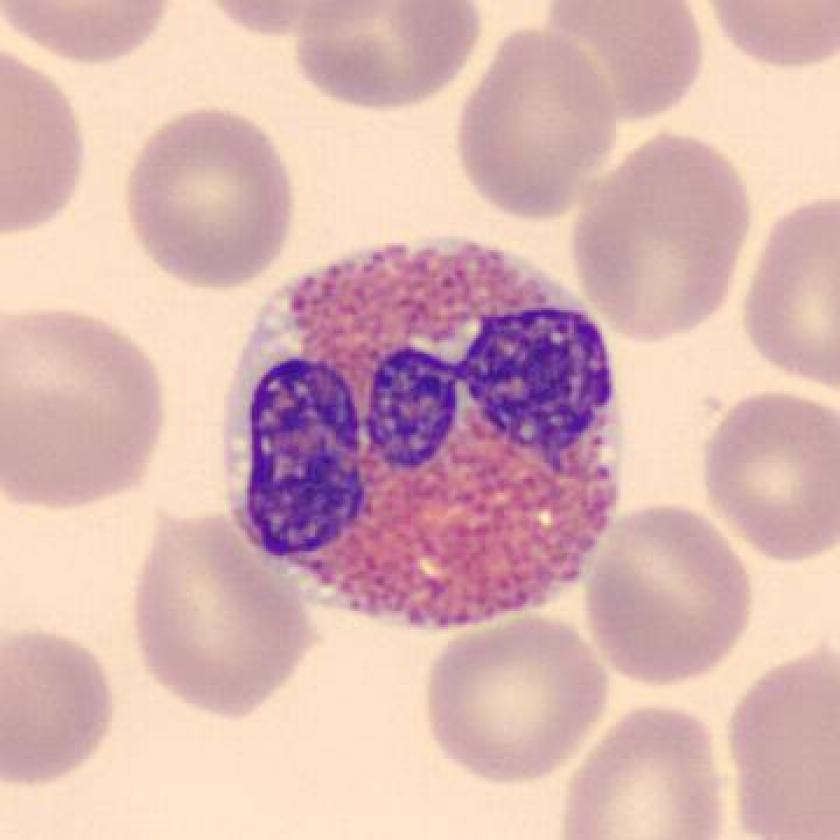eosinophil: (216, 239, 636, 642)
